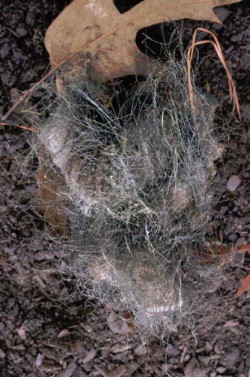Mucor: (42, 81, 219, 215), (71, 228, 205, 334), (153, 25, 192, 71)
